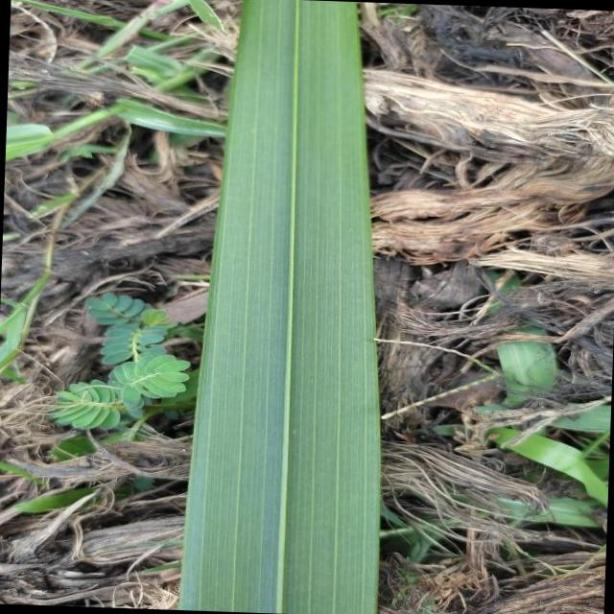Healthy: (178, 0, 377, 614)
